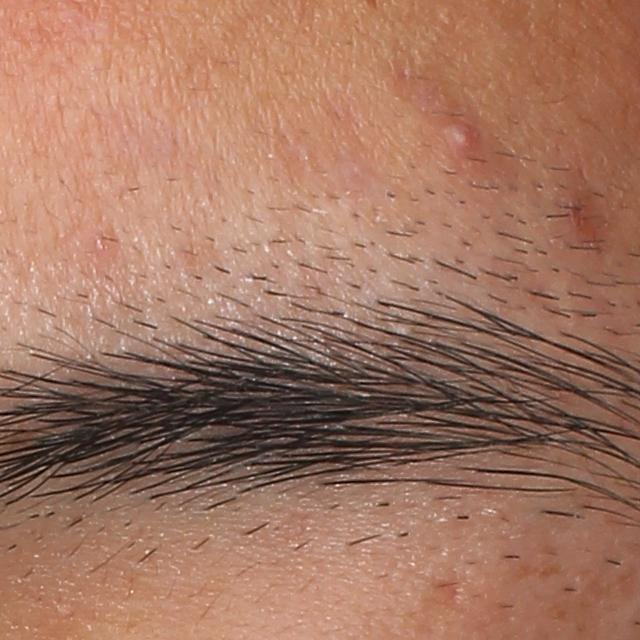papule: (443, 117, 482, 160)
